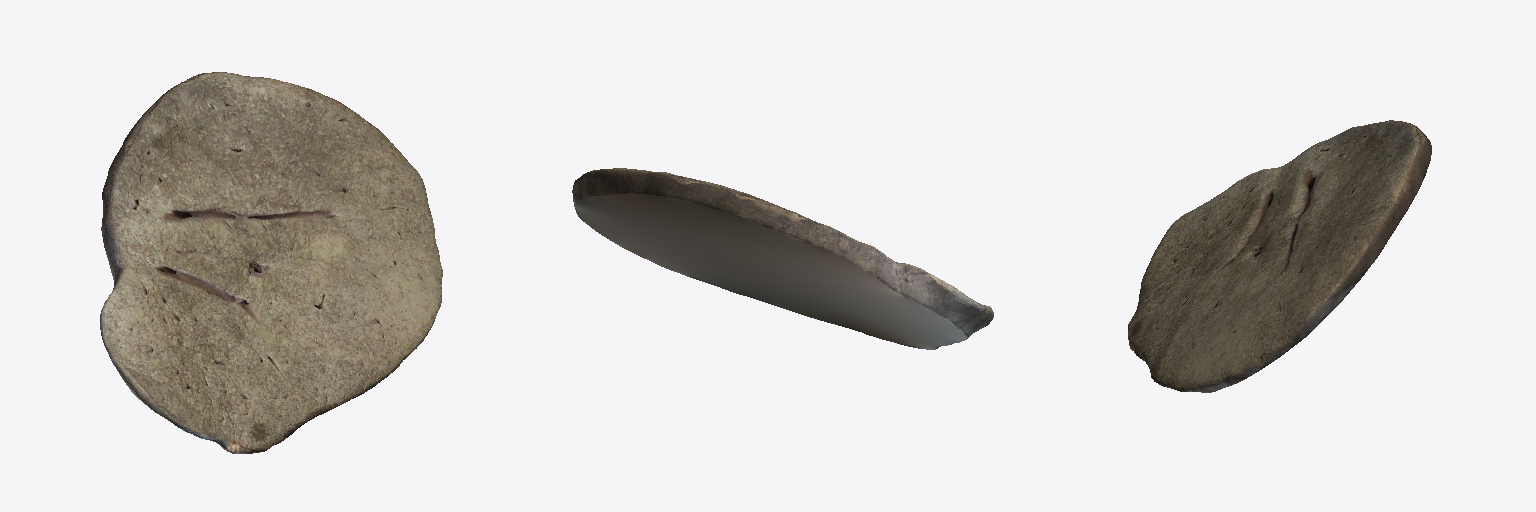
3 renders of one model, left to right at view 1: azimuth 30°, elevation 25°; view 2: azimuth 150°, elevation 25°; view 3: azimuth 270°, elevation 25°, orthographic.
Parts seen in each view (by area): view 1: model_mesh; view 2: model_mesh; view 3: model_mesh.
Boxes of the visible parts, box(x1,y1,x2,y2) form: model_mesh: box(100, 72, 442, 453); model_mesh: box(572, 168, 993, 349); model_mesh: box(1128, 120, 1431, 392).
Bounding box in the file's own units: 0.241 × 0.1618 × 0.1763.
Materials: 1 (1 with a texture image).